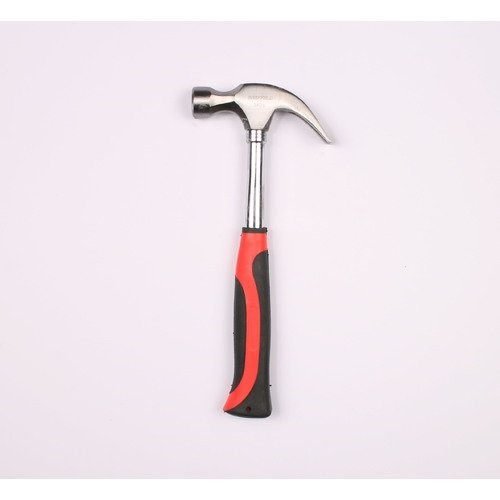hammer: (185, 78, 334, 425)
